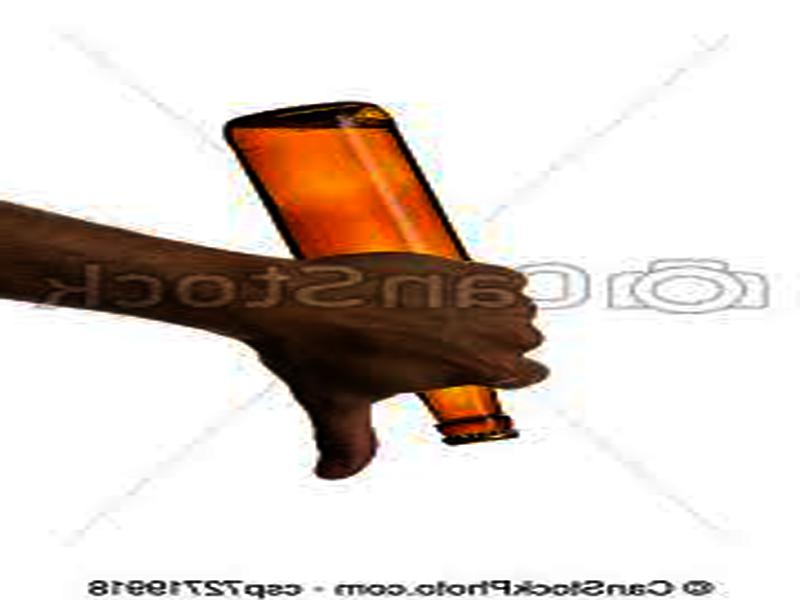Beer: (222, 102, 513, 442)
